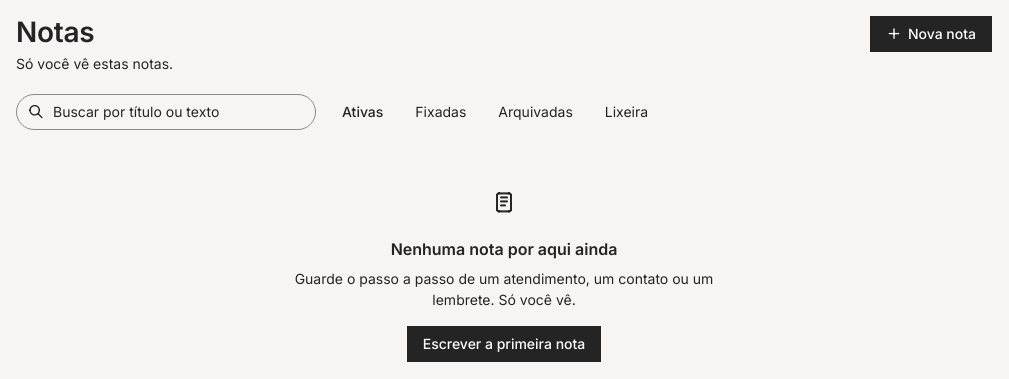
PaginaNotas › o vazio de cada recorte oferece a ação que cabe nele
The width and height of the screenshot is (1009, 379).
expect the button "Escrever a primeira nota" is shown: met, box x1=407 y1=326 x2=601 y2=362
Click the tab "Fixadas".
click(441, 112)  # box x1=401 y1=96 x2=480 y2=128
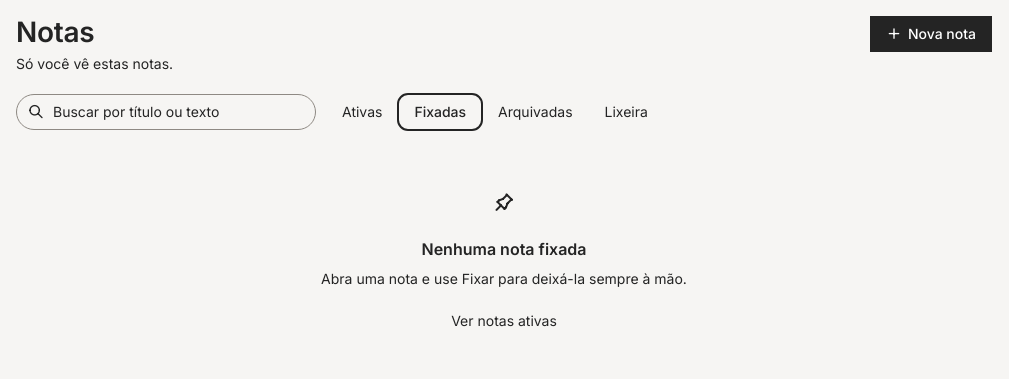
expect the text "Nenhuma nota fixada" is shown: met, box x1=422 y1=238 x2=586 y2=260
Click the button "Ver notas ativas".
click(504, 322)  # box x1=439 y1=306 x2=569 y2=338
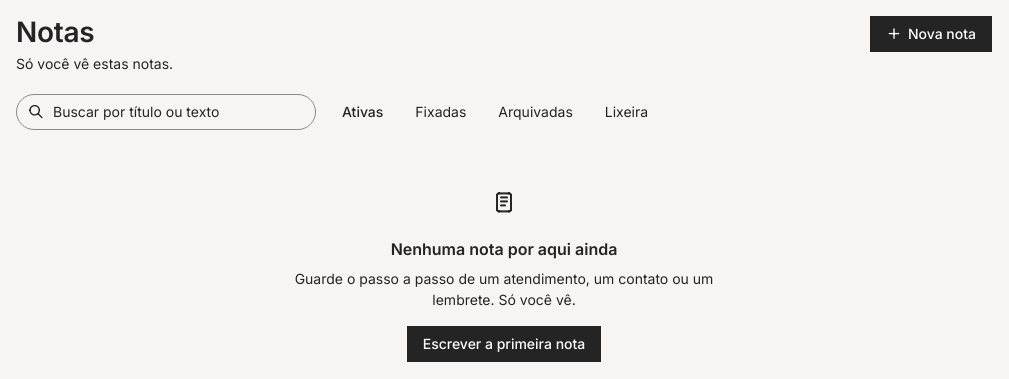
lixeira vazia é o estado bom: nada de convite a escrever
Click the tab "Lixeira".
click(626, 112)  # box x1=591 y1=96 x2=662 y2=128
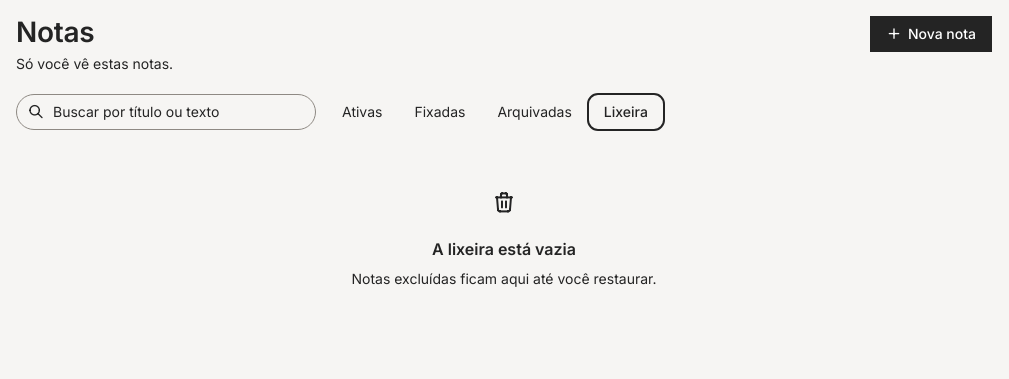
expect the button "Ver notas ativas" is not shown: met
expect the text "A lixeira está vazia" is shown: met, box x1=432 y1=238 x2=576 y2=260
expect the button "Escrever a primeira nota" is gone: met
